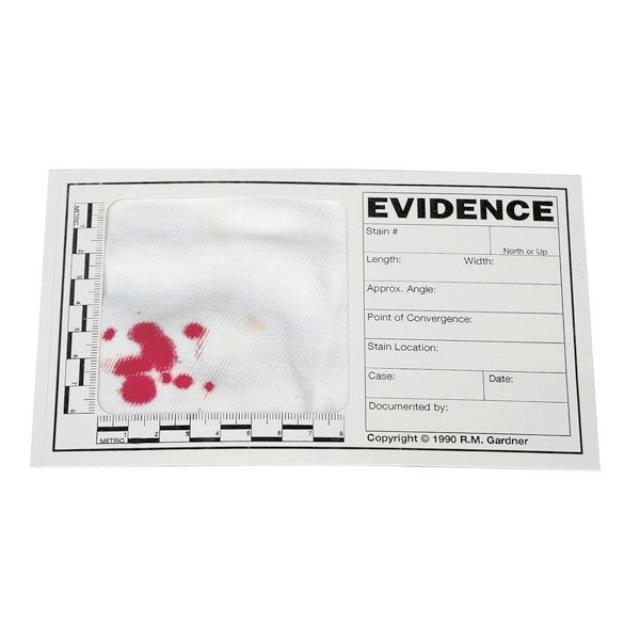blood: (112, 322, 193, 405), (183, 322, 206, 339), (102, 327, 115, 340), (204, 382, 214, 391)
